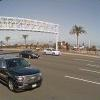Car: (2, 49, 45, 93)
